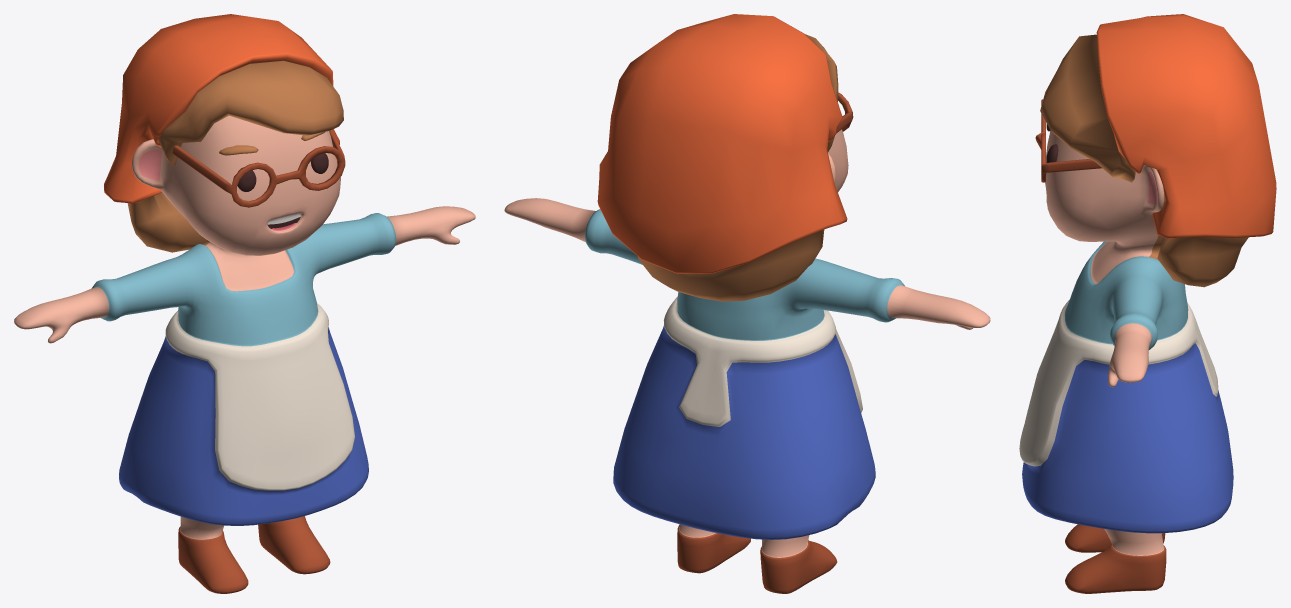
File: old_female_farmer_02.fbx
3 views of the same model, side by side, from view 1: azimuth 30°, elevation 25°; view 2: azimuth 150°, elevation 25°; view 3: azimuth 270°, elevation 25° (orthographic). The views are drawn at different scales.
Visible parts, largest first — view 1: old_female_farmer_02; view 2: old_female_farmer_02; view 3: old_female_farmer_02.
Part boxes in pixels (box(x1,y1,x2,y2)): old_female_farmer_02: box(14, 14, 475, 593); old_female_farmer_02: box(504, 14, 990, 593); old_female_farmer_02: box(1019, 14, 1276, 593).
Size of the model in its own units: 4.91 by 5.37 by 2.34.
